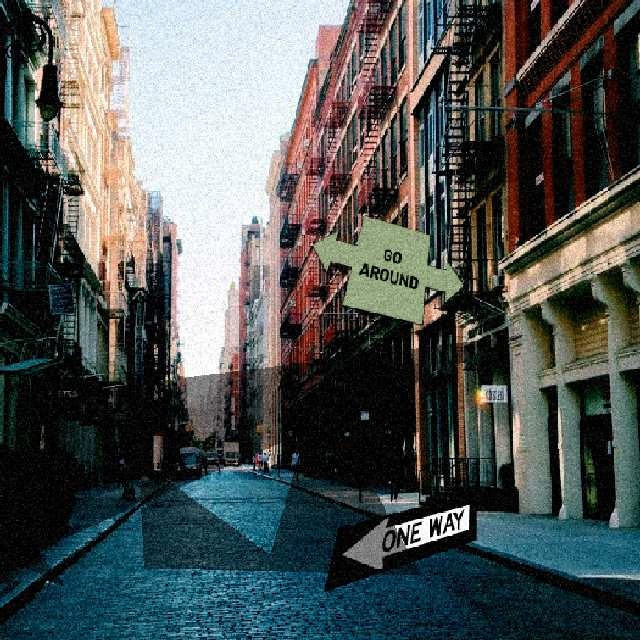GO_AROUND: (310, 213, 464, 325)
ONE_WAY_ left: (322, 490, 476, 591)
